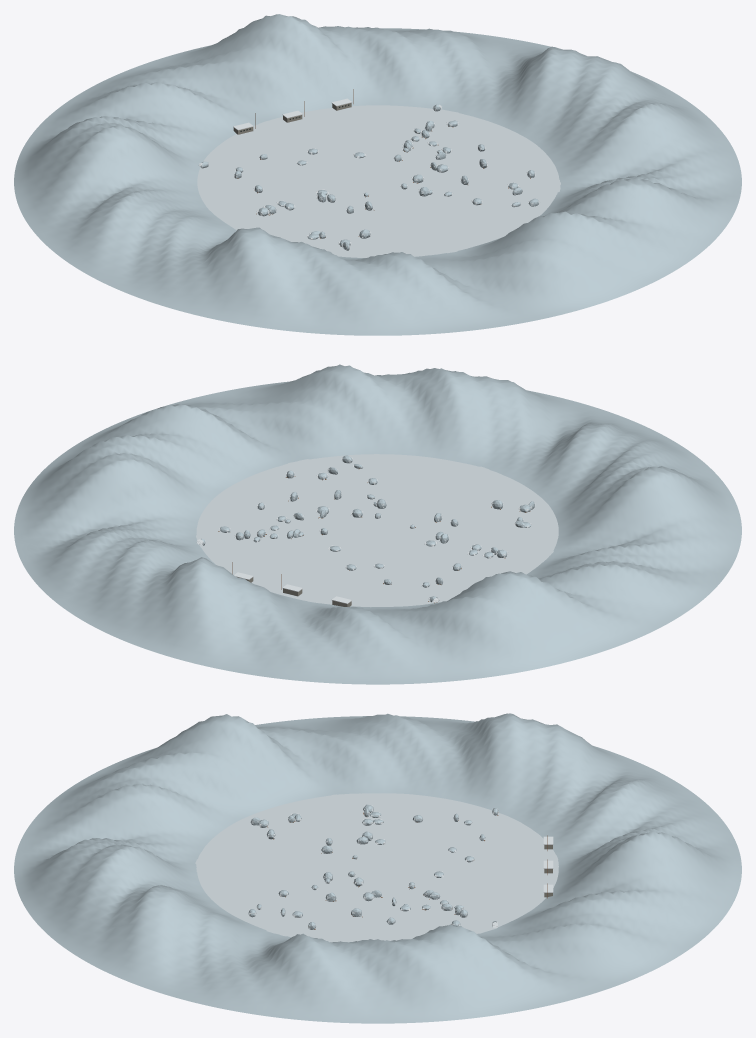
File: snow.glb
3 views of the same model, one above another, from view 1: azimuth 30°, elevation 25°; view 2: azimuth 150°, elevation 25°; view 3: azimuth 270°, elevation 25° (orthographic).
Visible parts, largest first — view 1: static_environment.003; view 2: static_environment.003; view 3: static_environment.003.
Boxes of the visible parts, <box> form: static_environment.003: <box>14,14,741,335</box>; static_environment.003: <box>14,364,741,684</box>; static_environment.003: <box>14,713,741,1023</box>.
Size of the model in its own units: 832 by 75.53 by 832.
